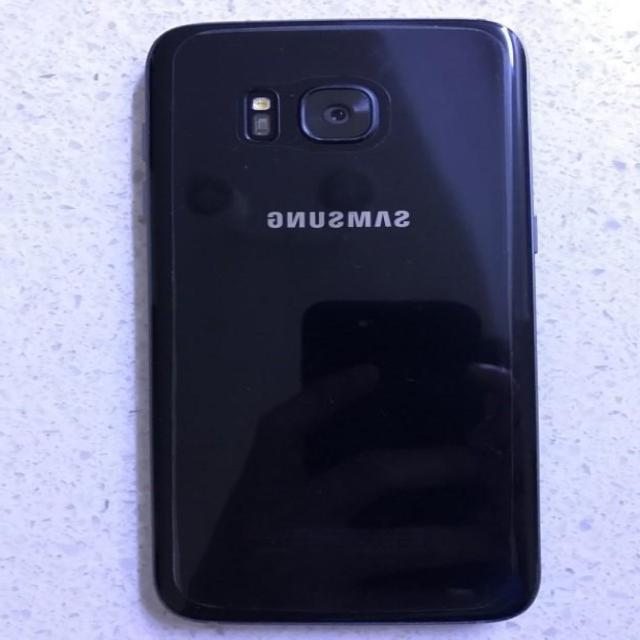mobile: (144, 16, 545, 629)
